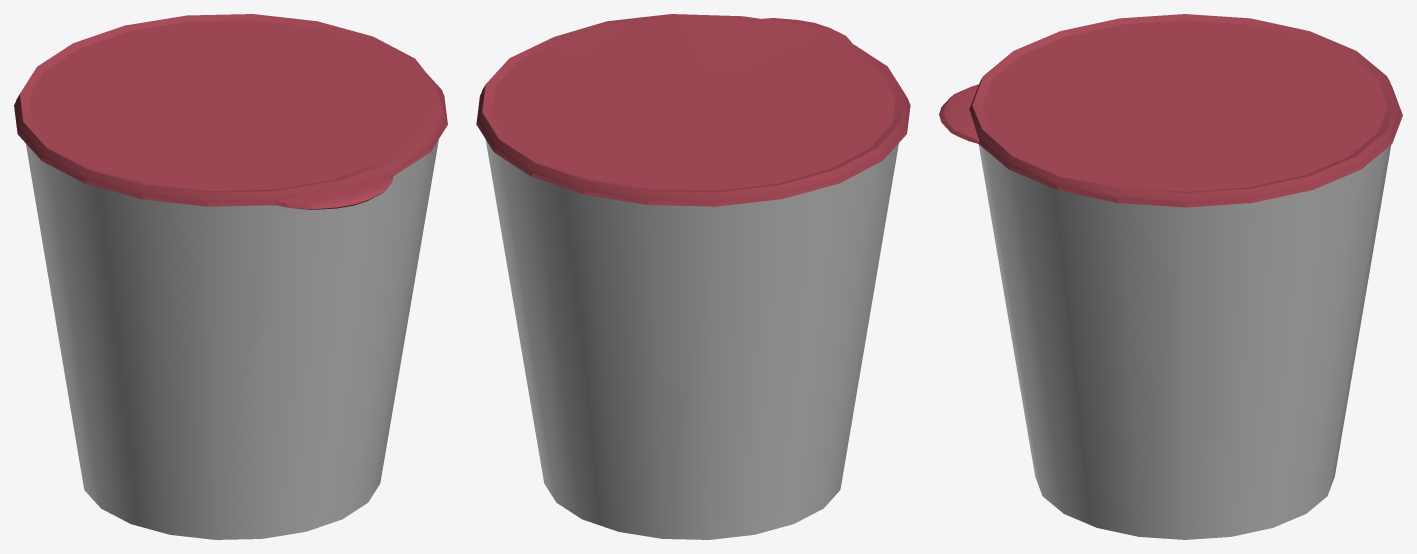
The model's file is CupRamen.fbx.
3 renders of one model, left to right at view 1: azimuth 30°, elevation 25°; view 2: azimuth 150°, elevation 25°; view 3: azimuth 270°, elevation 25°, orthographic.
Visible parts, largest first — view 1: CupRamen; view 2: CupRamen; view 3: CupRamen.
Boxes of the visible parts, box(x1,y1,x2,y2) form: CupRamen: box(14, 14, 447, 539); CupRamen: box(476, 14, 910, 539); CupRamen: box(939, 14, 1402, 539).
Bounding box in the file's own units: 2.17 × 2.05 × 2.31.
